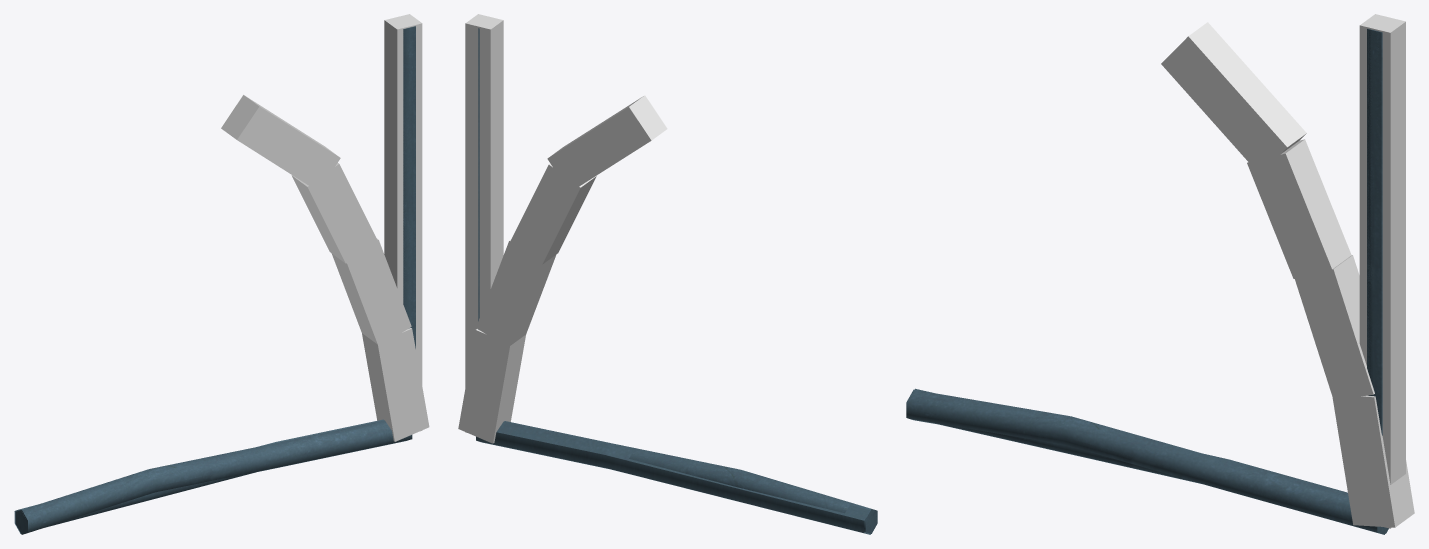
Rendered from VOGD_M_FENCE_METALRASTER_103.FBX.
3 views of the same model, side by side, from view 1: azimuth 30°, elevation 25°; view 2: azimuth 150°, elevation 25°; view 3: azimuth 330°, elevation 25° (orthographic). The views are drawn at different scales.
Parts seen in each view (by area): view 1: Object008, DS0_CH_01, DS1_CH_01, DS1_CH_04, DS1_CH_02, DS1_CH_03, Object010, Object006, Object004, Object017, Object012; view 2: DS0_CH_01, Object012, DS1_CH_01, DS1_CH_04, DS1_CH_02, DS1_CH_03, Object008, Object016; view 3: DS0_CH_01, Object008, DS1_CH_04, DS1_CH_03, DS1_CH_01, DS1_CH_02, Object004, Object010, Object006, Object012.
Part boxes in pixels (<box>): Object008: <box>15,420,412,534</box>; DS0_CH_01: <box>384,14,422,431</box>; DS1_CH_01: <box>362,328,429,441</box>; DS1_CH_04: <box>221,95,340,185</box>; DS1_CH_02: <box>331,238,411,346</box>; DS1_CH_03: <box>291,163,377,263</box>; Object010: <box>27,432,412,532</box>; Object006: <box>403,28,409,319</box>; Object004: <box>403,26,415,348</box>; Object017: <box>409,27,413,333</box>; Object012: <box>14,419,383,533</box>; DS0_CH_01: <box>465,14,503,432</box>; Object012: <box>476,421,876,534</box>; DS1_CH_01: <box>458,329,525,443</box>; DS1_CH_04: <box>547,95,667,191</box>; DS1_CH_02: <box>476,239,556,347</box>; DS1_CH_03: <box>510,163,596,264</box>; Object008: <box>504,421,877,533</box>; Object016: <box>478,28,479,329</box>; DS0_CH_01: <box>1359,14,1405,528</box>; Object008: <box>906,389,1384,534</box>; DS1_CH_04: <box>1161,22,1306,172</box>; DS1_CH_03: <box>1247,139,1351,278</box>; DS1_CH_01: <box>1332,395,1414,527</box>; DS1_CH_02: <box>1293,255,1374,396</box>; Object004: <box>1367,28,1382,435</box>; Object010: <box>906,403,1377,532</box>; Object006: <box>1367,29,1373,395</box>; Object012: <box>915,388,1388,533</box>.
Bounding box in the file's own units: 38.19 × 2.65 × 38.07.
Materials: 1 (1 with a texture image).
